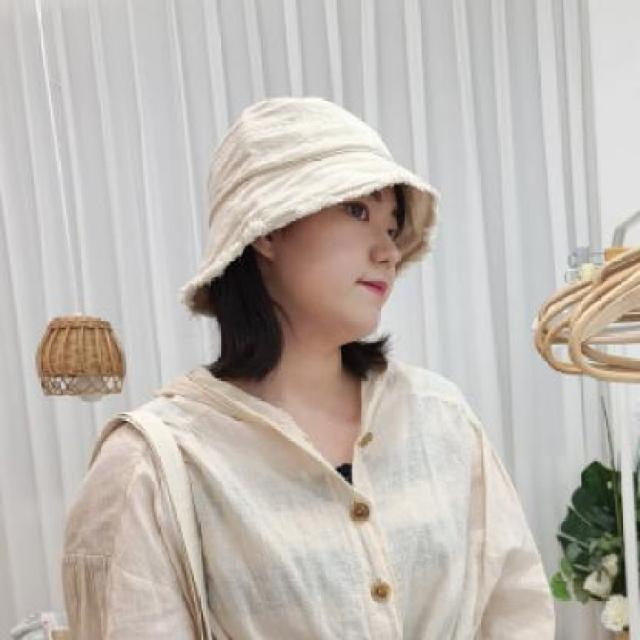hat: (181, 97, 439, 318)
